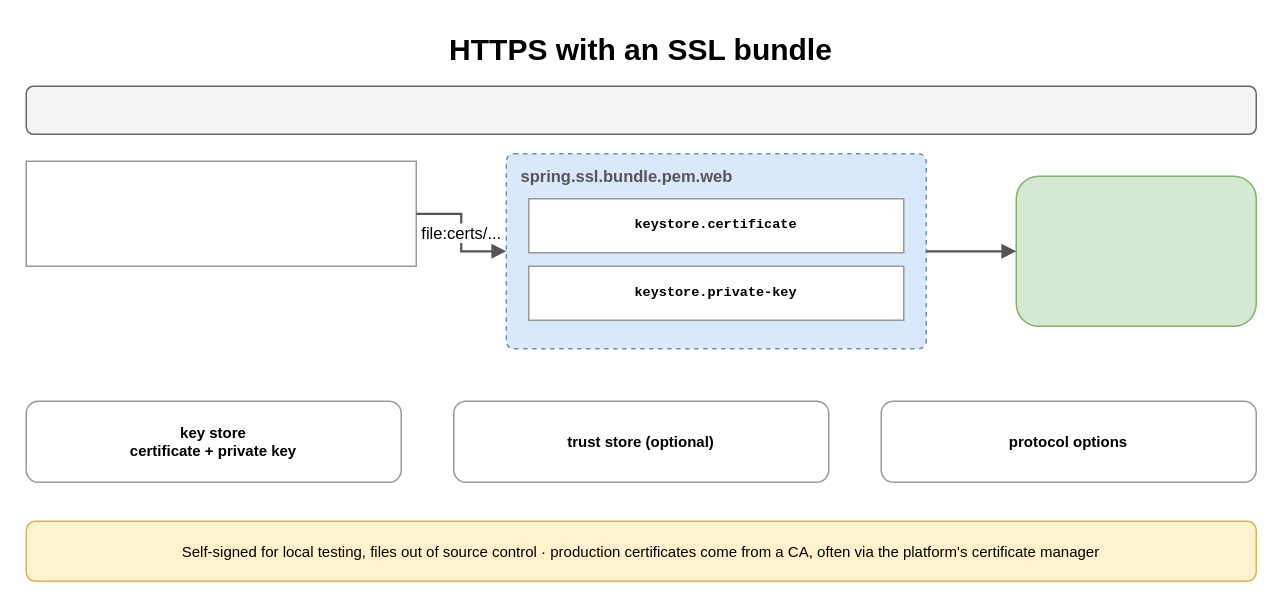
This 1283x608 diagram has some shape labels left out. Each missing label, with the centre of its shape:
Define TLS material once as a named bundle, then refer to it by name: (x=640, y=109)
embedded server server.ssl.bundle=web HTTPS only on 8443: (x=1135, y=250)
openssl req -x509 ... certs/server.crt certs/server.key: (x=220, y=213)
